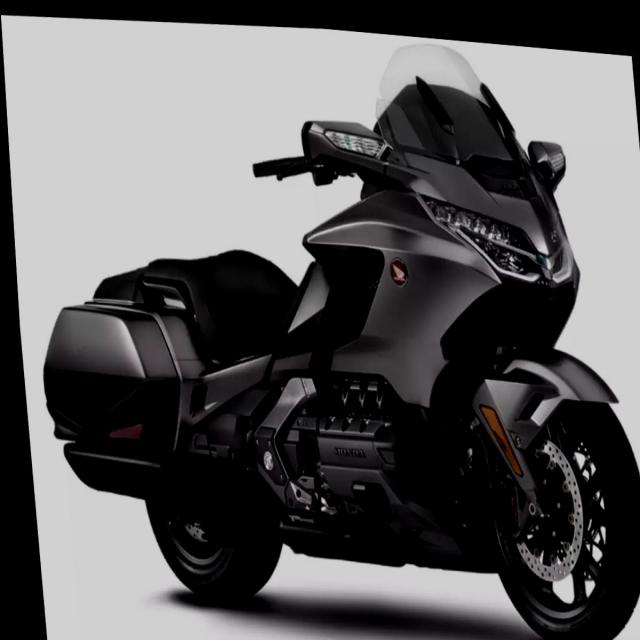Gold Wing: (8, 0, 639, 639)
